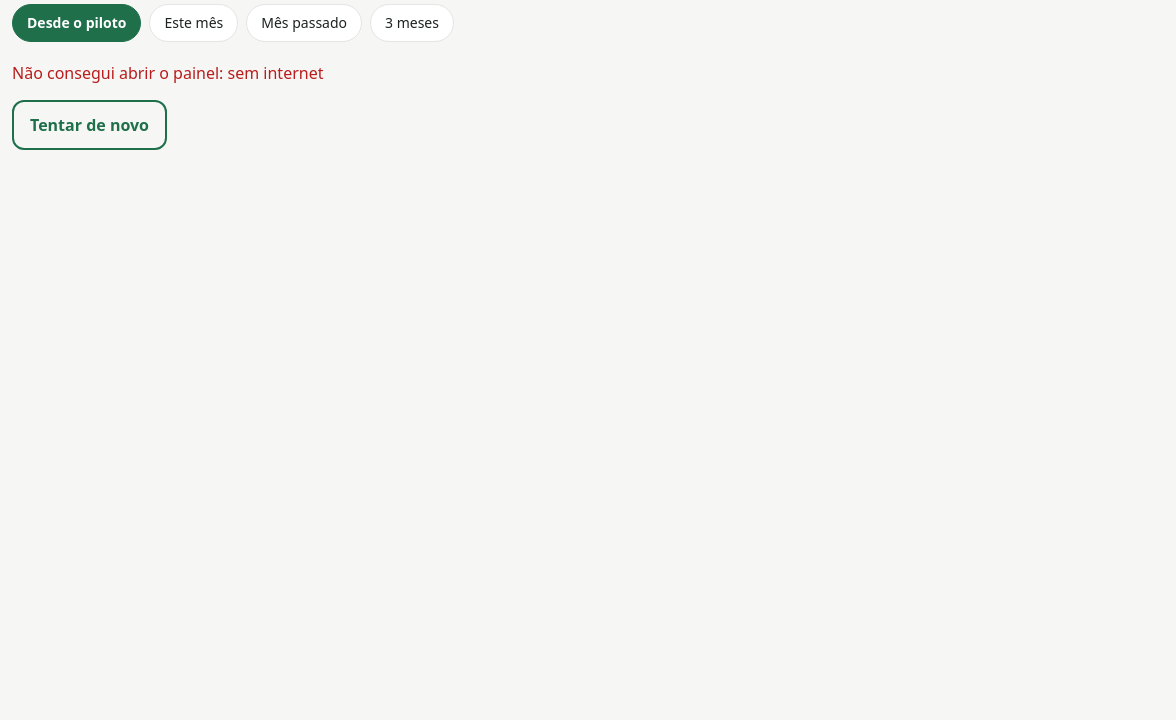
Economia › erro com [Tentar de novo] recarrega
This screenshot has width=1176, height=720.
Expected: the text "Não consegui abrir o painel: sem internet" is shown, x1=12 y1=62 x2=324 y2=84
Click the button "Tentar de novo": click(90, 125) x1=12 y1=100 x2=167 y2=150
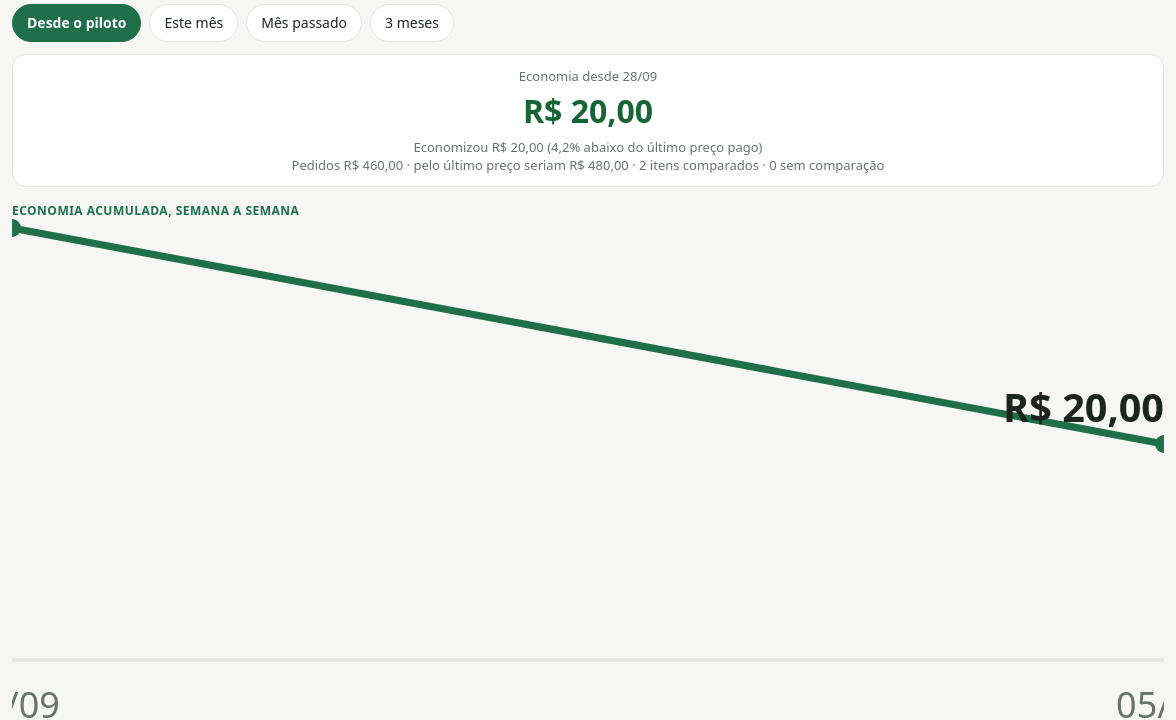
Expected: the text "R$ 20,00" is shown, x1=523 y1=89 x2=653 y2=132
